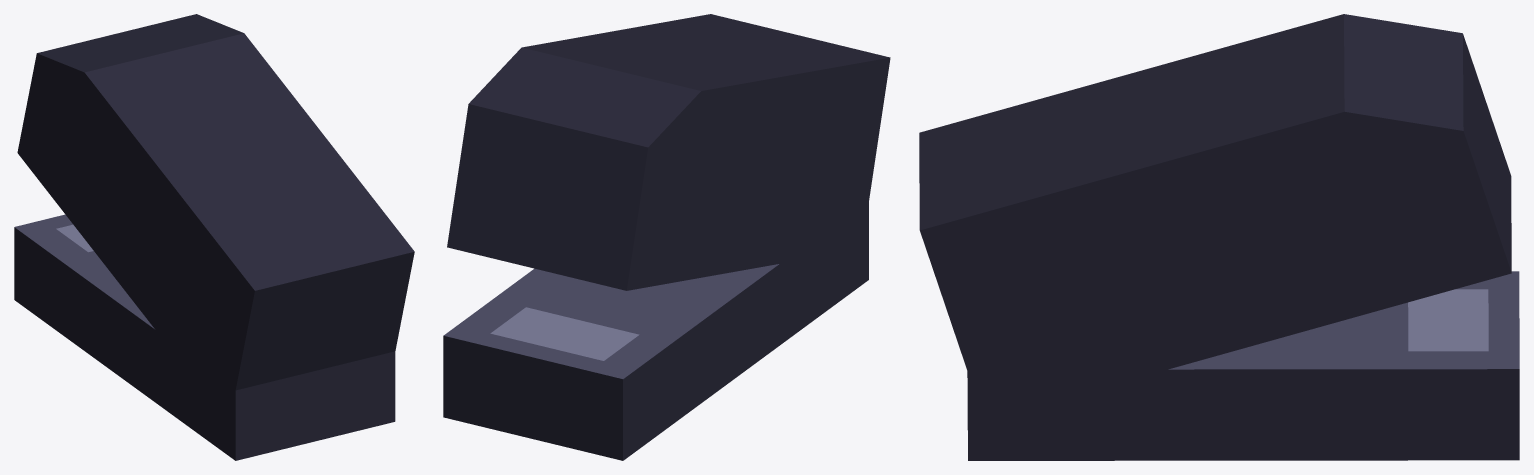
The model's file is Stapler.fbx.
The picture shows the model from 3 angles, left to right: view 1: azimuth 30°, elevation 25°; view 2: azimuth 150°, elevation 25°; view 3: azimuth 270°, elevation 25°; orthographic projection. The views are drawn at different scales.
Visible parts, largest first — view 1: Stapler; view 2: Stapler; view 3: Stapler.
Boxes of the visible parts, <box> form: Stapler: <box>14,14,414,460</box>; Stapler: <box>443,14,890,460</box>; Stapler: <box>919,14,1519,460</box>.
Size of the model in its own units: 9.05 by 14.94 by 23.32.
